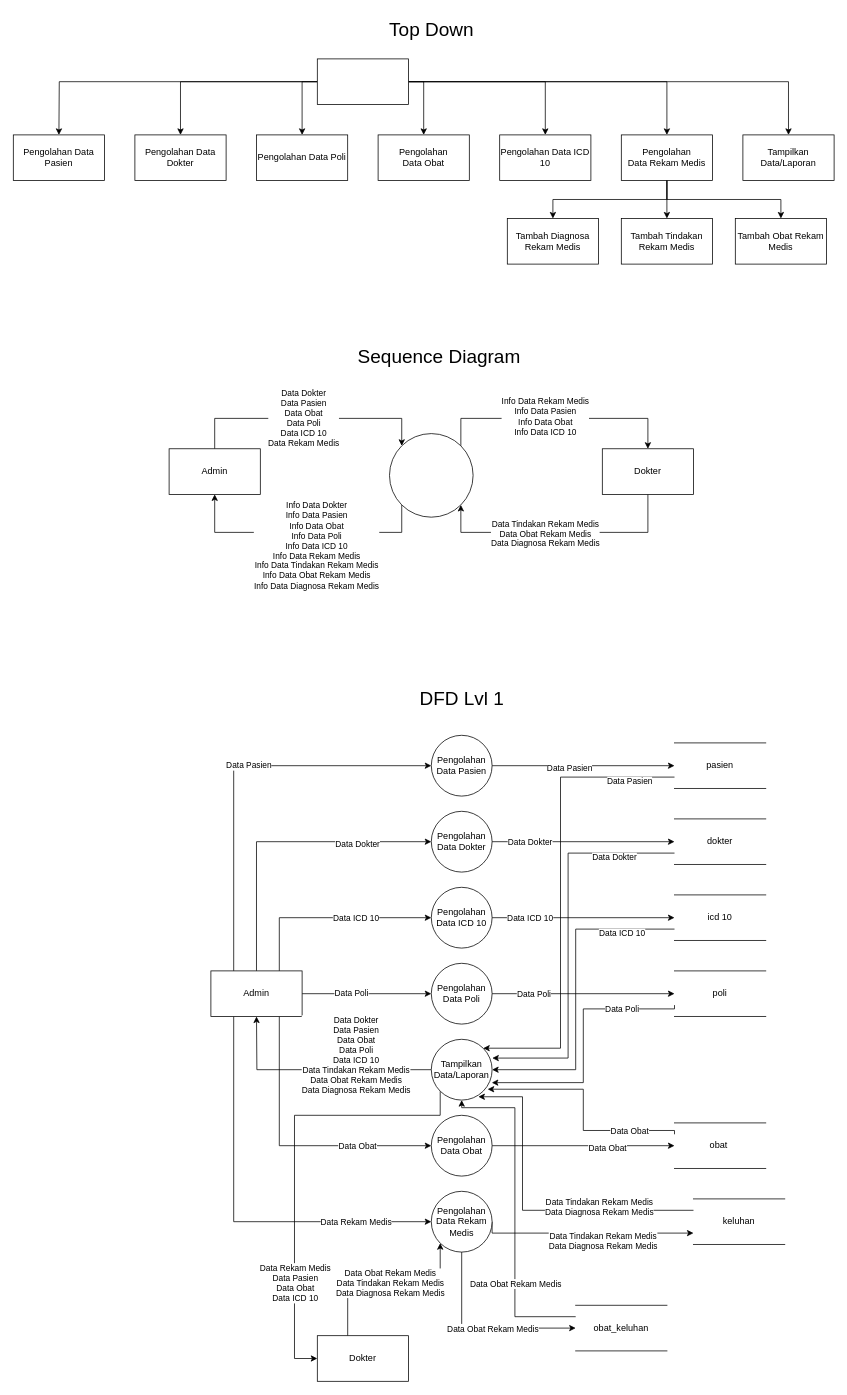
Some shapes in this 847 by 1395 pixel diagram are drawn without their labels. The shapes that lost their labels are listed below. From the top down, each one's centre as x and y in pixels, then its label:
point (362, 81): Web Puskesmas Wasuponda
point (431, 475): Sistem Informasi Rekam Medis Puskesmas Wasuponda
